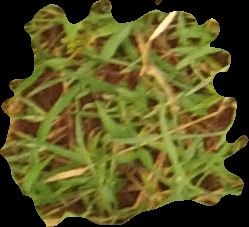grass: (1, 1, 248, 225)
